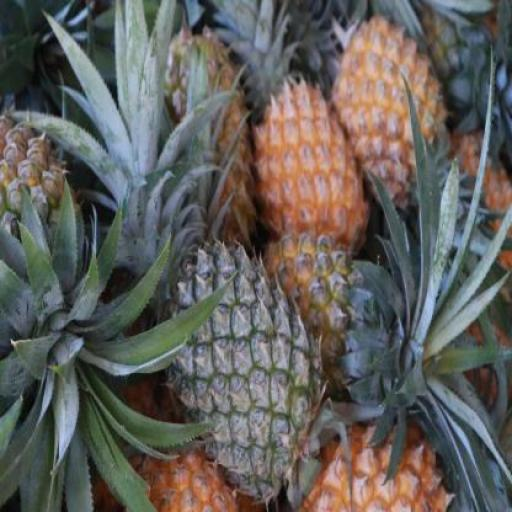------------------------------: (0, 100, 84, 327)
Pineapple - v8 v1: (333, 14, 446, 220), (250, 78, 365, 258)
